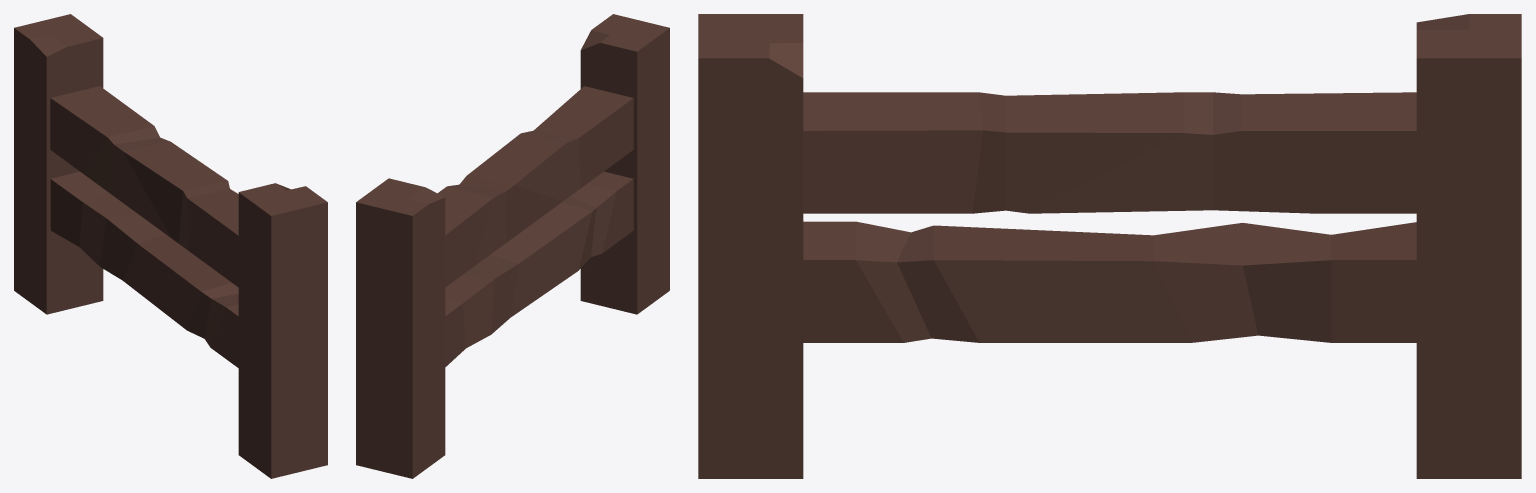
The model's file is fenc.fbx.
3 views of the same model, side by side, from view 1: azimuth 30°, elevation 25°; view 2: azimuth 150°, elevation 25°; view 3: azimuth 270°, elevation 25° (orthographic). The views are drawn at different scales.
Parts seen in each view (by area): view 1: Cube.013; view 2: Cube.013; view 3: Cube.013.
Boxes of the visible parts, left/top/right/bottom form: Cube.013: left=14, top=14, right=327, bottom=478; Cube.013: left=356, top=14, right=669, bottom=478; Cube.013: left=698, top=14, right=1521, bottom=478.
Size of the model in its own units: 0.8312 by 3.68 by 6.53.
